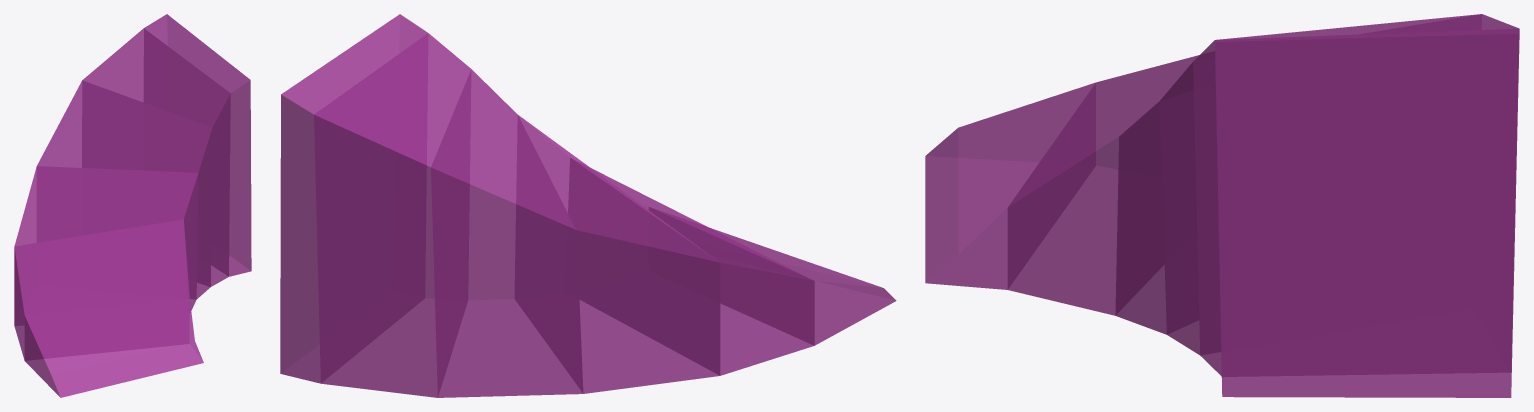
Rendered from SM_Env_Stone_Stairs_Corner_01_Collision.fbx.
3 views of the same model, side by side, from view 1: azimuth 30°, elevation 25°; view 2: azimuth 150°, elevation 25°; view 3: azimuth 270°, elevation 25° (orthographic). The views are drawn at different scales.
Visible parts, largest first — view 1: SM_Env_Stone_Stairs_Corner_01_Collision; view 2: SM_Env_Stone_Stairs_Corner_01_Collision; view 3: SM_Env_Stone_Stairs_Corner_01_Collision.
Part boxes in pixels (x1,y1,x2,y2): SM_Env_Stone_Stairs_Corner_01_Collision: (14, 14, 251, 397); SM_Env_Stone_Stairs_Corner_01_Collision: (280, 14, 896, 397); SM_Env_Stone_Stairs_Corner_01_Collision: (925, 14, 1519, 397).
Bounding box in the file's own units: 456 × 318 × 473.
